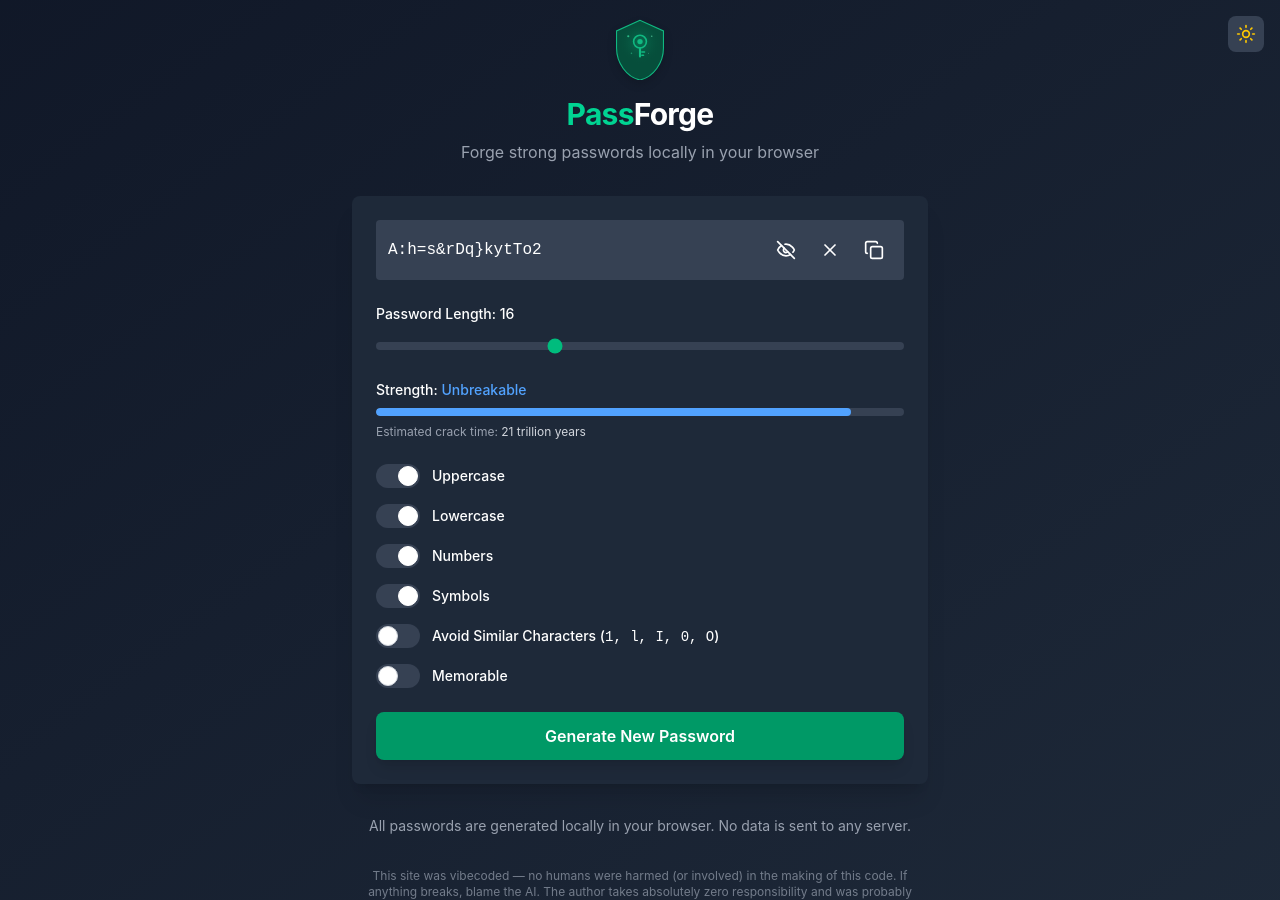
it: App component › shows pending clear message when clipboard clear fails while not focused
The width and height of the screenshot is (1280, 900).
Click the button titled "Copy to clipboard (Ctrl+C)".
click(874, 250)  # box top-left (856, 232), bottom-right (892, 268)
Wait 10000 ms
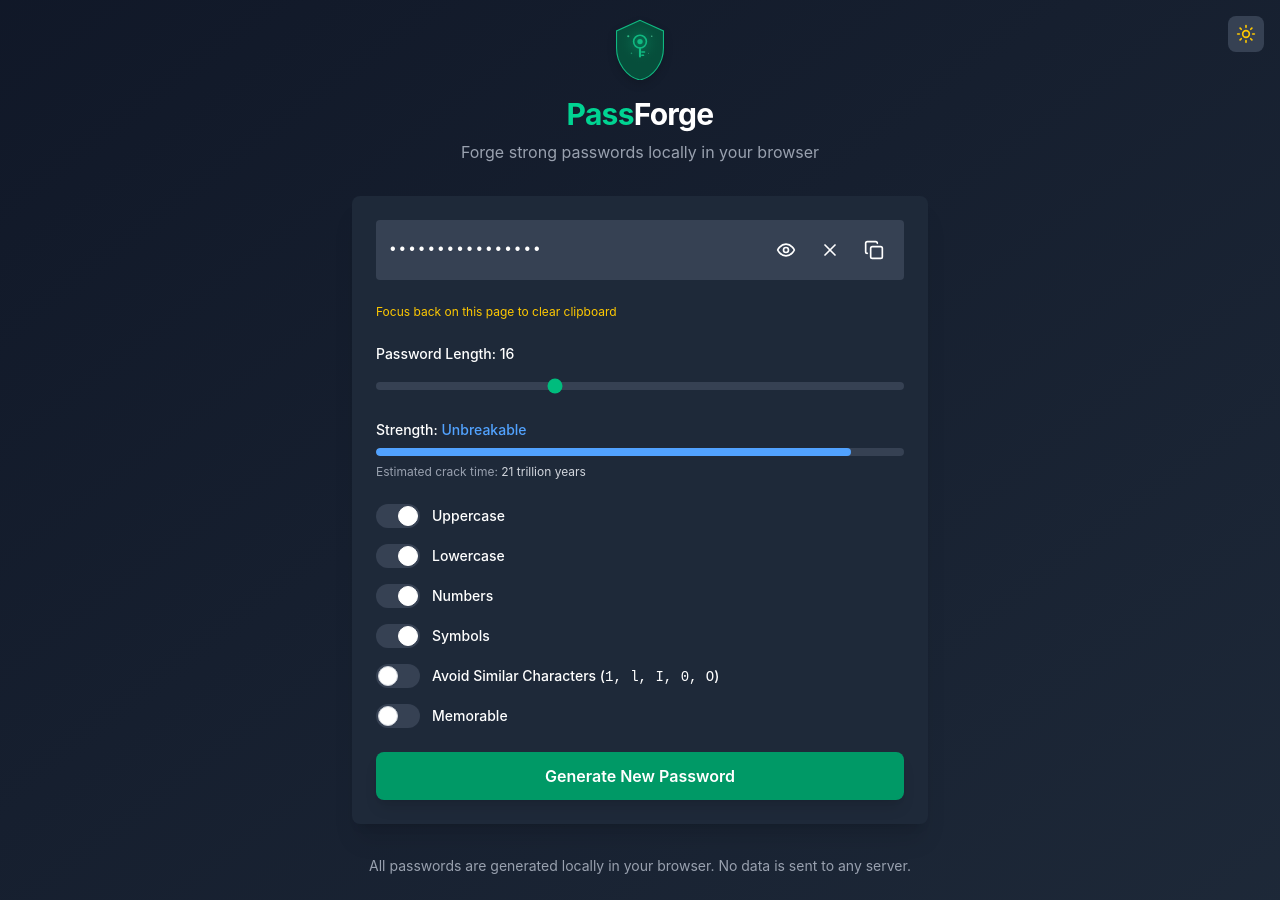
Check: the text "Focus back on this page to clear clipboard" is shown, box top-left (376, 304), bottom-right (617, 319)
